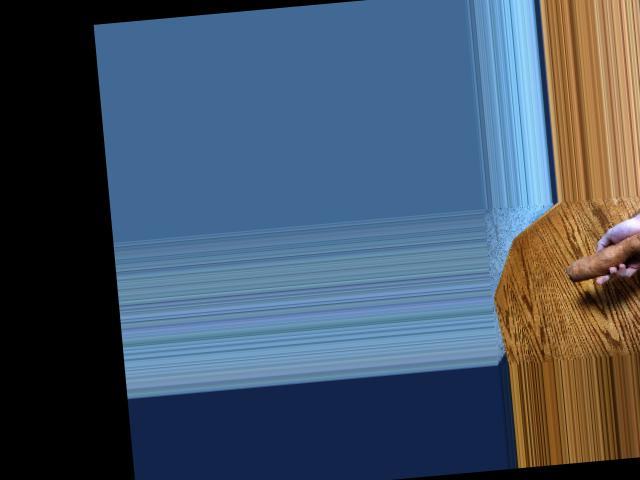sweet_potato: (561, 220, 640, 284)
